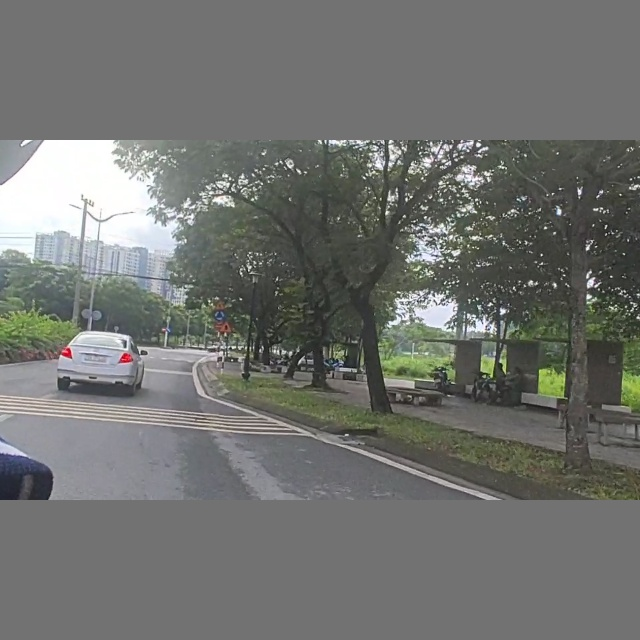P.102: (161, 327, 166, 332)
R.302a: (167, 327, 173, 333)
R.303: (214, 311, 225, 321)
W.207: (219, 321, 234, 333)
W.224: (214, 300, 225, 310)
